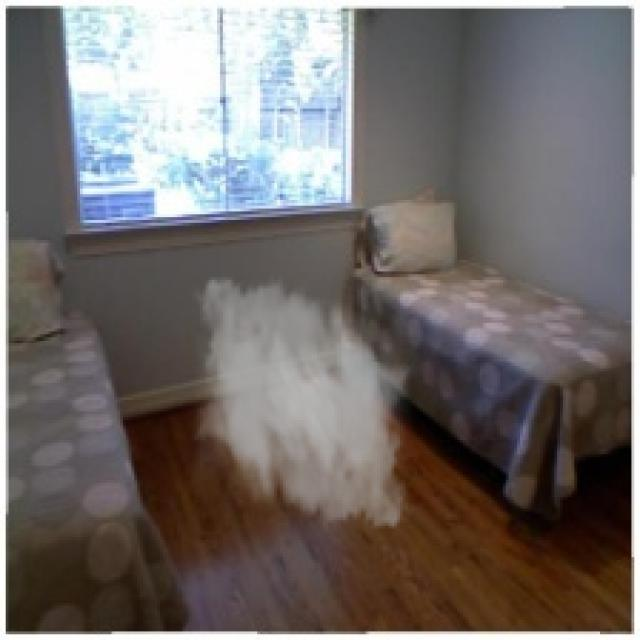smoke: (177, 266, 423, 540)
